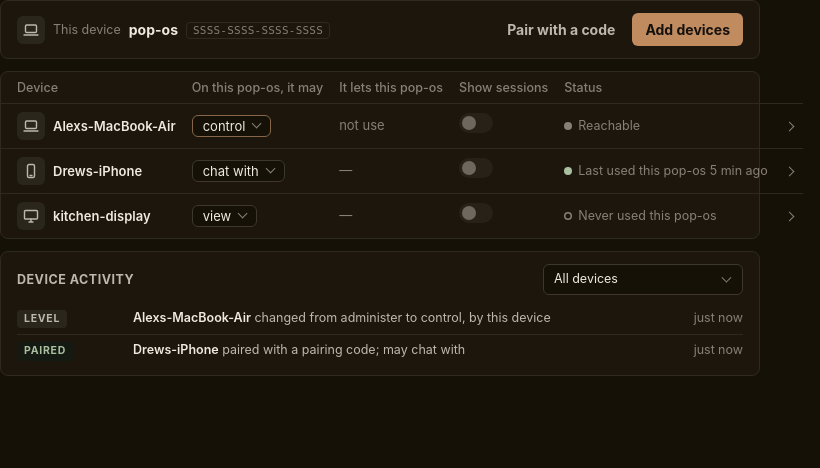
it: PairedDevicesSection › the section's Device activity log filters by device
Check: the text "changed from administer to control" is shown, box [254, 310, 462, 325]
What coordinates should you click on to do the following:
click the button with id "device-activity-filter"
I would click on:
 (643, 279)
Its box is [543, 264, 743, 295].
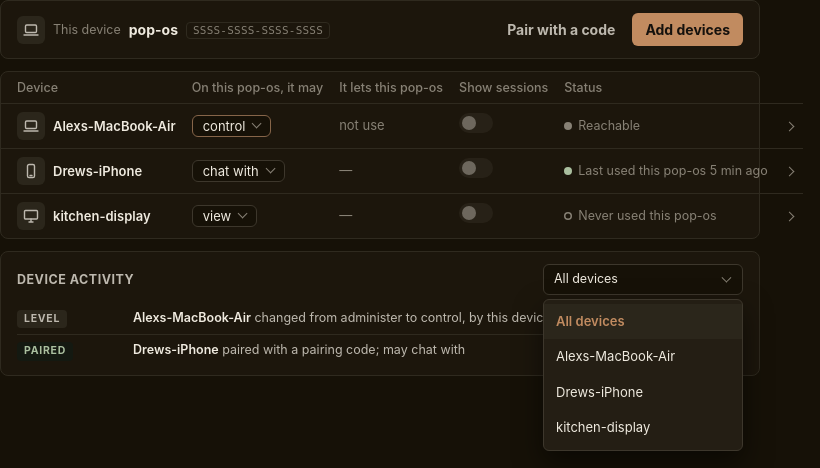
What coordinates should you click on to do the following:
click the option "Drews-iPhone"
I would click on:
 (600, 392)
Its box is [556, 384, 643, 400].
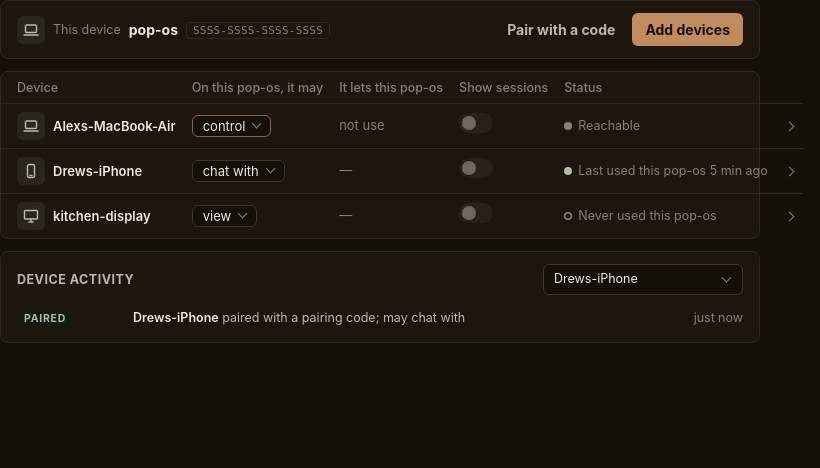
Check: the text "changed from administer to control" is gone
